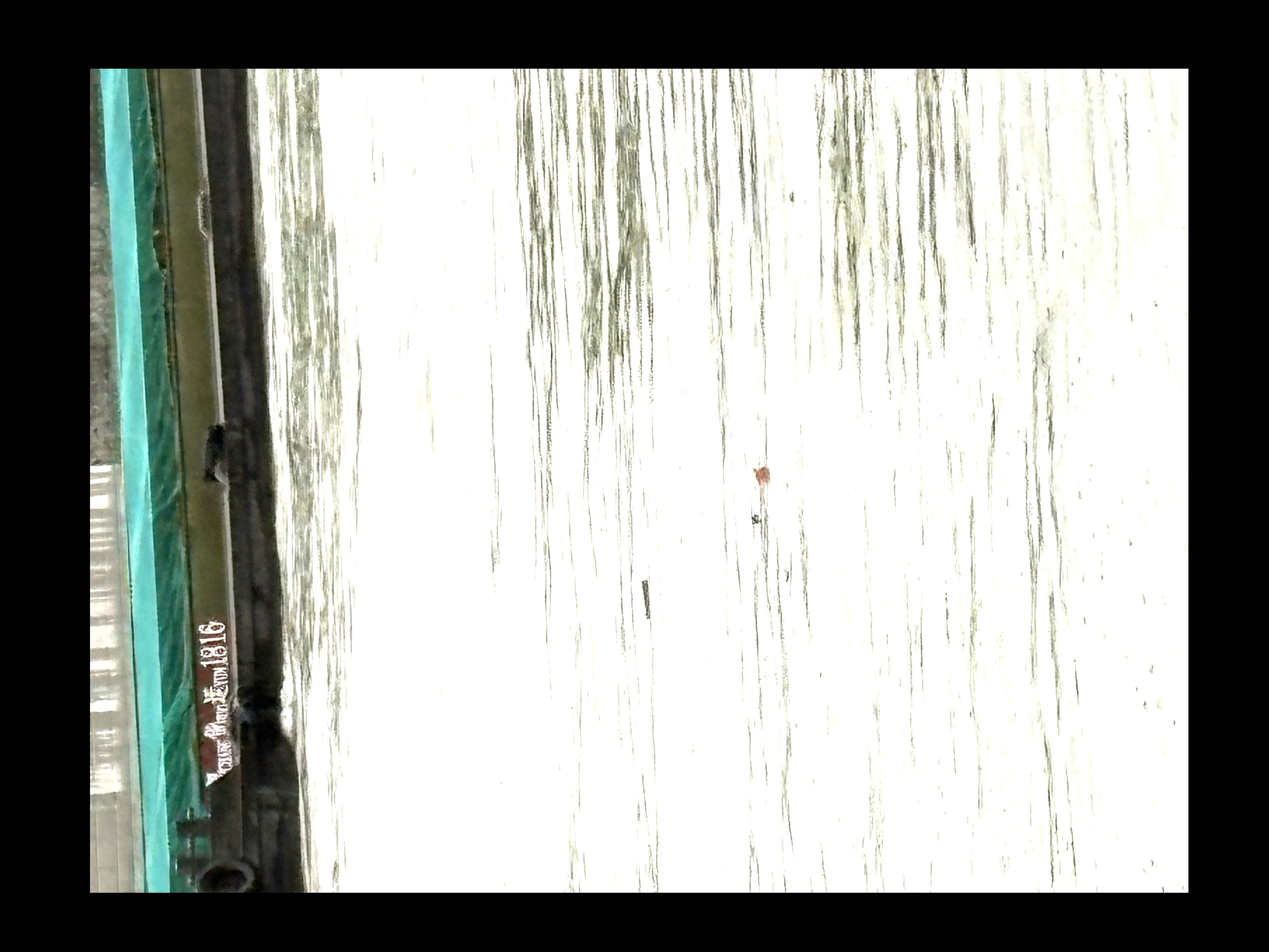Natural wastes: (665, 561, 687, 604), (774, 444, 801, 474), (777, 496, 793, 510)
